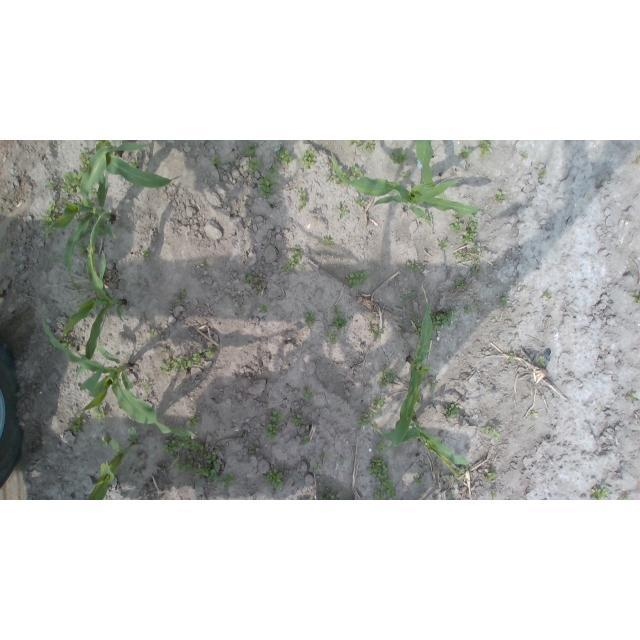Maize: (40, 313, 199, 440), (44, 143, 151, 294), (52, 210, 129, 378), (330, 151, 485, 219), (373, 408, 473, 484), (390, 292, 432, 453), (89, 140, 182, 190), (88, 427, 138, 500), (415, 140, 437, 186)
Weeds: (160, 356, 192, 375), (430, 308, 454, 332), (41, 201, 60, 229), (366, 457, 388, 480), (346, 269, 369, 287), (61, 172, 79, 195), (379, 364, 396, 388), (265, 469, 284, 490), (181, 436, 204, 453), (69, 413, 86, 435), (258, 174, 273, 198), (275, 145, 293, 165), (194, 467, 219, 481), (175, 454, 193, 472), (481, 424, 501, 440), (370, 396, 385, 417), (380, 480, 397, 498), (300, 149, 316, 167), (444, 403, 460, 421), (199, 451, 217, 467), (389, 150, 408, 165), (264, 424, 281, 440), (247, 158, 262, 176), (164, 440, 182, 455), (297, 188, 308, 211), (591, 486, 609, 500), (79, 149, 90, 171), (92, 405, 108, 419), (78, 240, 90, 258), (461, 231, 476, 245), (332, 315, 347, 329), (480, 140, 493, 156), (357, 413, 370, 429), (335, 204, 349, 218), (449, 219, 463, 233), (351, 164, 363, 180), (326, 175, 343, 186), (243, 144, 257, 157), (268, 409, 281, 423), (282, 256, 295, 270), (304, 311, 317, 324), (60, 334, 72, 348), (367, 325, 381, 337), (464, 305, 480, 315), (302, 388, 312, 404), (459, 147, 471, 160), (187, 416, 201, 427), (193, 348, 202, 365), (221, 475, 236, 485), (469, 214, 478, 230), (376, 444, 392, 453), (324, 492, 341, 500), (244, 269, 253, 284), (268, 164, 279, 176), (455, 251, 467, 262), (495, 191, 505, 204), (404, 291, 417, 301), (294, 247, 303, 261), (348, 140, 363, 148), (487, 468, 497, 480), (428, 380, 437, 393), (87, 220, 96, 233), (366, 141, 375, 154), (455, 276, 464, 289), (340, 169, 350, 180), (293, 414, 303, 425), (205, 347, 216, 357), (129, 157, 140, 167), (256, 278, 263, 293), (497, 295, 507, 305), (471, 266, 481, 276), (355, 196, 366, 205), (176, 290, 185, 301), (99, 227, 106, 240), (260, 303, 269, 313), (322, 236, 332, 245), (629, 392, 638, 402), (148, 328, 159, 336), (212, 156, 221, 165), (440, 240, 449, 249), (328, 332, 337, 341), (439, 192, 448, 201), (102, 436, 111, 445), (458, 465, 468, 473), (373, 492, 383, 500), (142, 384, 150, 393), (401, 172, 409, 181), (538, 358, 547, 366), (301, 436, 309, 445), (45, 180, 54, 188), (539, 170, 547, 179), (374, 422, 381, 432), (453, 212, 464, 218), (417, 324, 422, 337), (413, 476, 421, 484), (327, 163, 334, 172), (508, 354, 515, 363), (142, 249, 149, 258), (426, 215, 432, 225), (272, 177, 280, 184), (471, 245, 478, 253), (312, 464, 320, 471), (240, 431, 249, 437), (491, 490, 496, 500), (407, 262, 414, 269), (413, 317, 420, 324), (249, 448, 256, 455), (92, 188, 98, 196), (630, 290, 638, 296), (530, 411, 536, 418), (522, 151, 529, 157), (201, 261, 207, 267), (542, 291, 548, 297), (335, 308, 340, 315), (453, 480, 459, 485), (635, 298, 640, 304), (625, 496, 632, 500), (450, 488, 455, 492), (300, 265, 305, 269), (320, 454, 325, 458), (637, 157, 640, 163), (466, 168, 470, 172)
